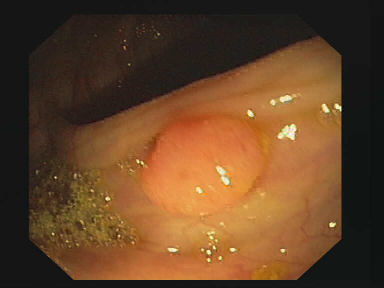polyp: (125, 113, 298, 220)
